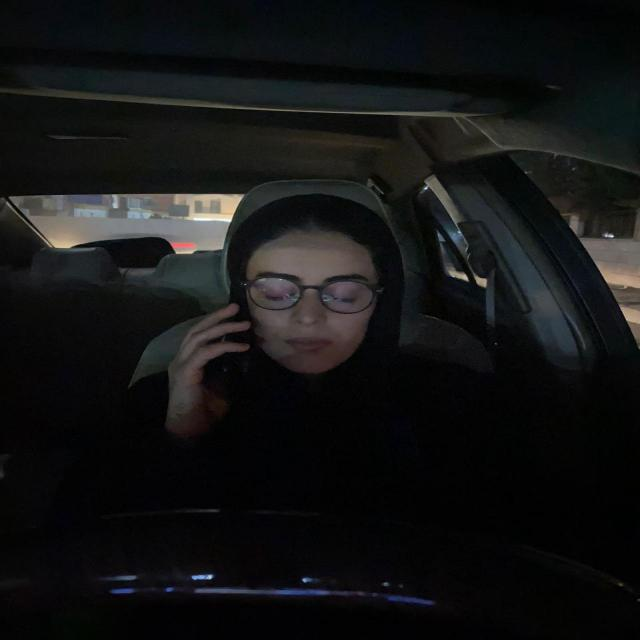mobile: (217, 294, 264, 426)
person: (232, 205, 393, 374)
